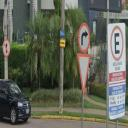NoSeguir: (2, 39, 10, 56)
